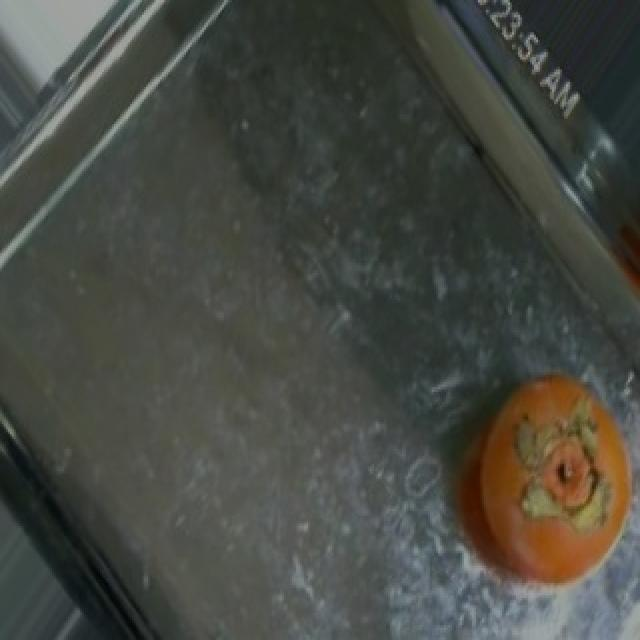Fruit: (440, 355, 634, 610)
